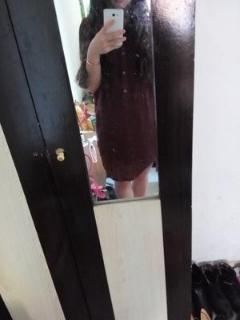long sleeve dress: (76, 0, 156, 182)
